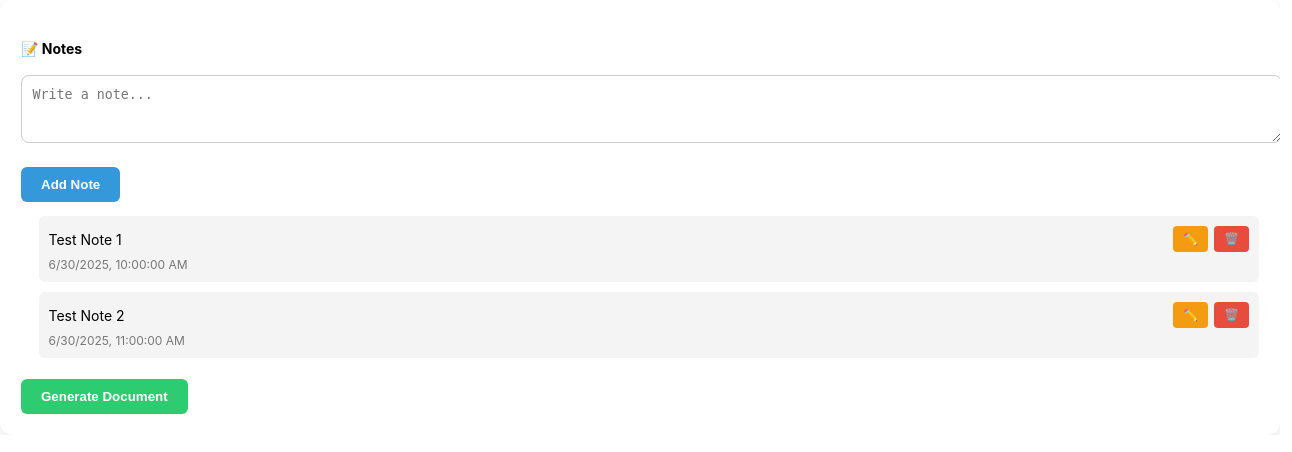
Scenario: NotesSection Component › edit button sets note text
Expected: the text "Test Note 1" is shown, [48,231,122,248]
Click the button titled "Edit Note" in the row of "Test Note 1" at (1191, 239), box [1173,226,1208,252]
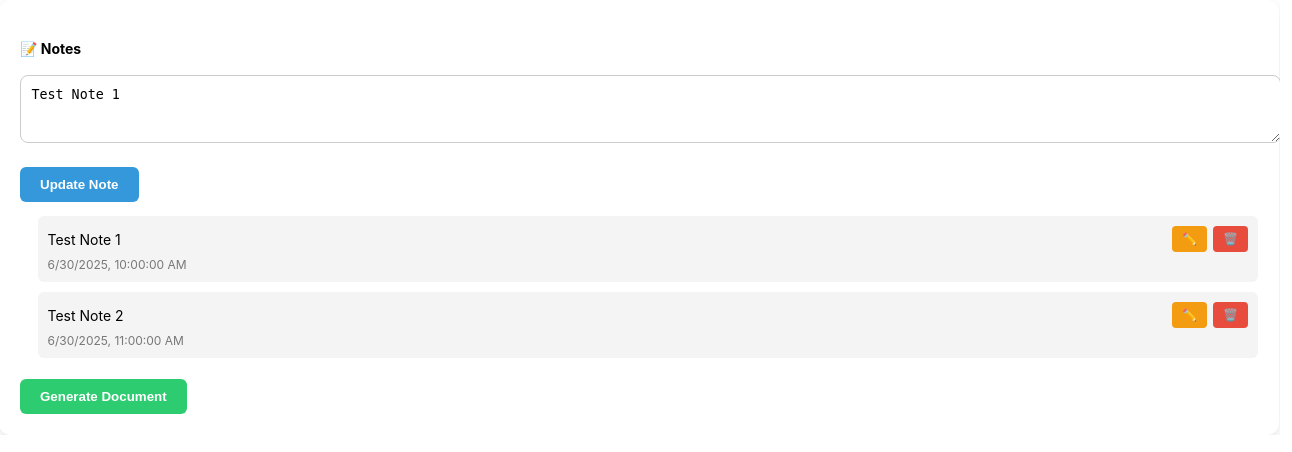
Now the text box with placeholder "Write a note..." holds "Test Note 1", box [20,75,1281,143]
